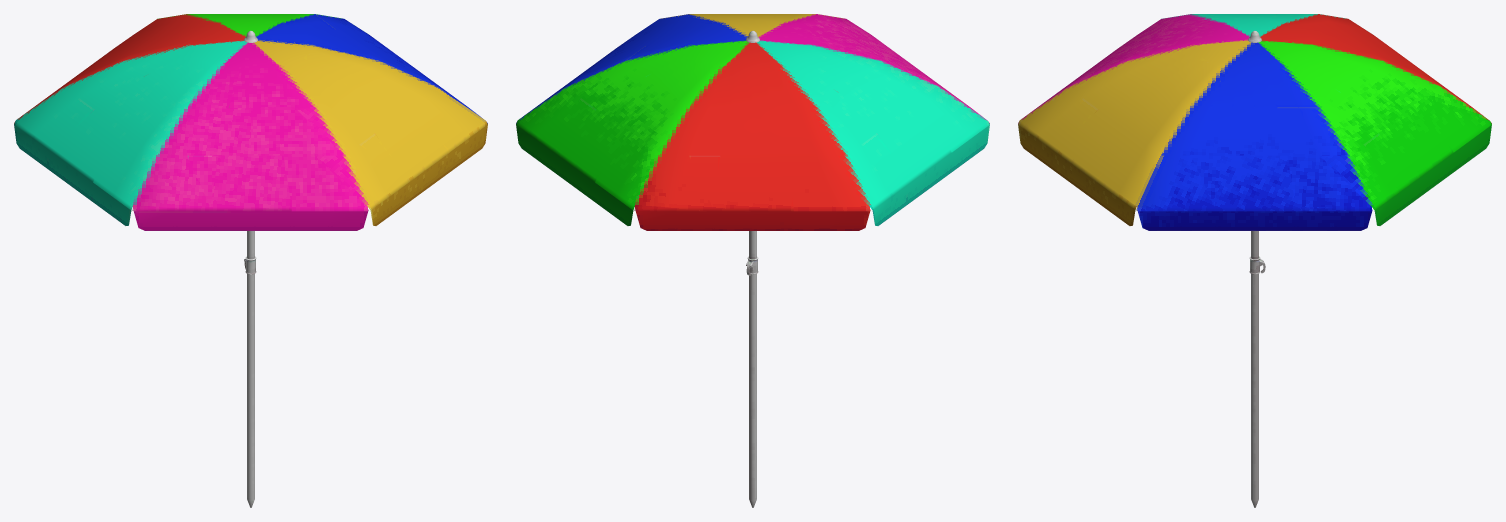
Rendered from beach_parasol.glb.
3 views of the same model, side by side, from view 1: azimuth 30°, elevation 25°; view 2: azimuth 150°, elevation 25°; view 3: azimuth 270°, elevation 25° (orthographic).
Visible parts, largest first — view 1: mesh; view 2: mesh; view 3: mesh.
Part boxes in pixels (bbox=[...]): mesh: bbox=[14, 14, 487, 507]; mesh: bbox=[516, 14, 989, 507]; mesh: bbox=[1018, 14, 1491, 507].
Bounding box in the file's own units: 1.55 × 1.98 × 1.78.
1 material, 1 textured.
